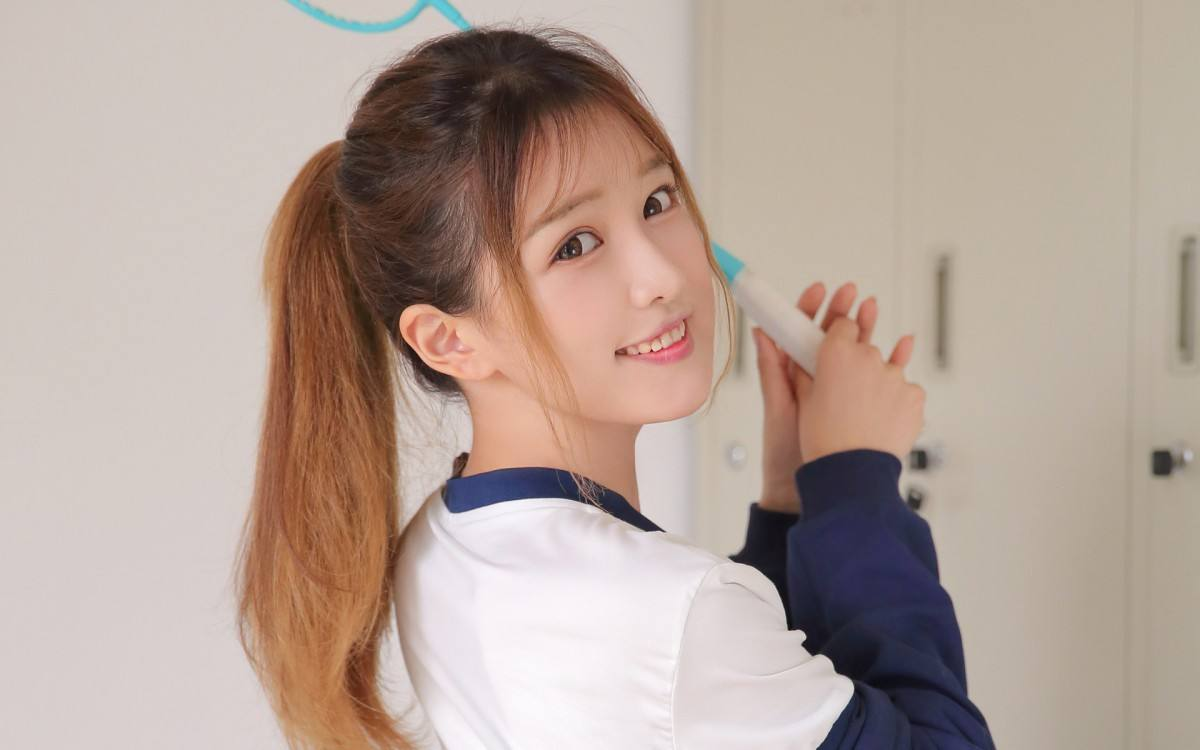person: (289, 45, 998, 692)
